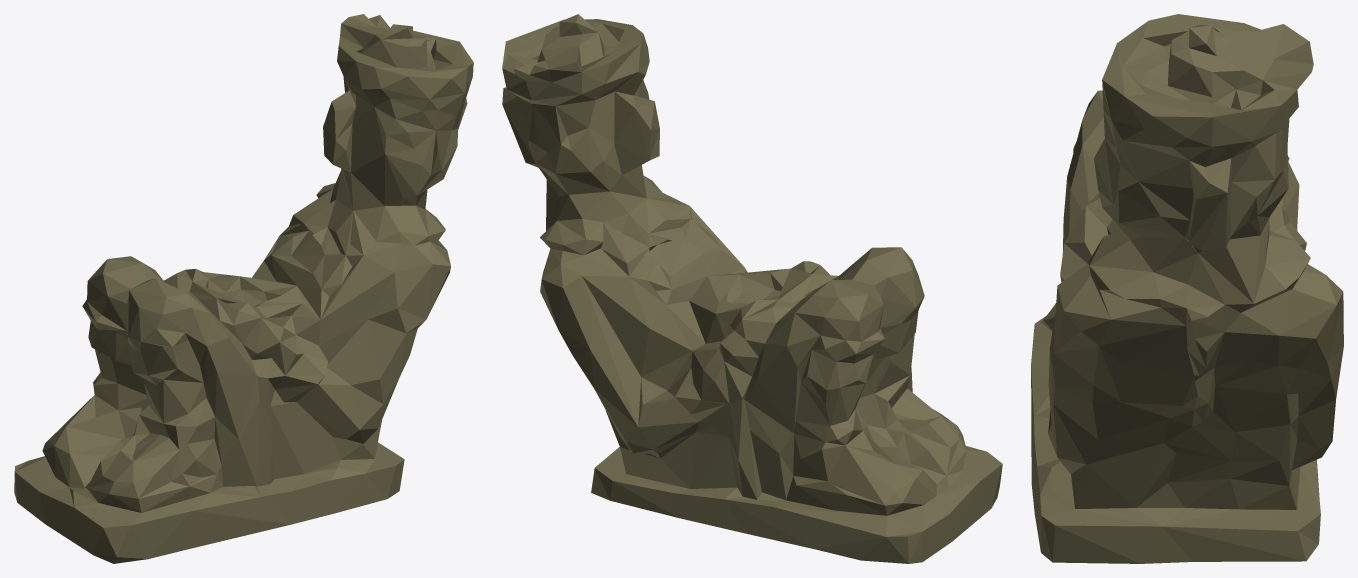
Rendered from chac-mool.lod1.glb.
The picture shows the model from 3 angles, left to right: view 1: azimuth 30°, elevation 25°; view 2: azimuth 150°, elevation 25°; view 3: azimuth 270°, elevation 25°; orthographic projection. The views are drawn at different scales.
Parts seen in each view (by area): view 1: Object_2; view 2: Object_2; view 3: Object_2.
Boxes of the visible parts, x1,y1,x2,y2 form: Object_2: (14,14,473,563); Object_2: (502,14,1002,563); Object_2: (1031,14,1343,563).
Size of the model in its own units: 1.69 by 1.58 by 0.7779.
